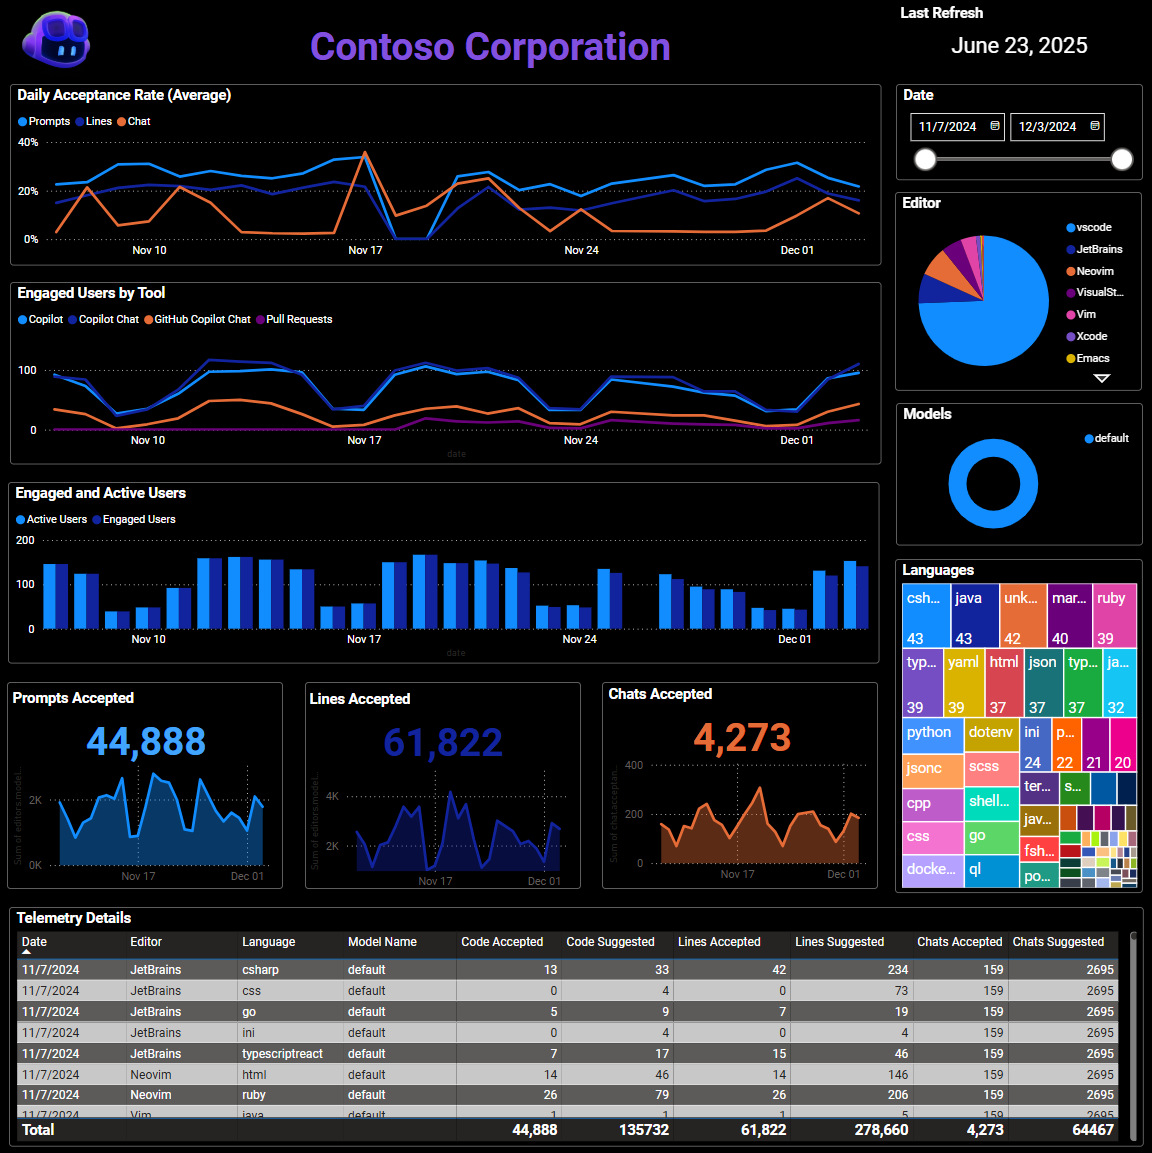

The dashboard page shown, as its layout file describes it:
{"tool":"powerbi","page":{"name":"Sample Dashboard","canvas":[1280,1280],"ordinal":0},"visuals":[{"type":"slicer","title":"Date","fields":{"Values":["GH Copilot - summary.date"]},"box":[992.3,95.6,272.2,105.6],"z":0},{"type":"lineChart","title":"Daily Acceptance Rate (Average)","fields":{"Y":["Avg(GH Copilot - ide code completions editors.code.acceptance.rate)","Avg(GH Copilot - ide code completions editors.line.acceptance.rate)","Avg(GH Copilot - ide chat.chat.acceptance.rate)"],"Category":["GH Copilot - summary.date"]},"box":[16.5,96.3,960,200],"z":1000},{"type":"lineChart","title":"Engaged Users by Tool","fields":{"Category":["GH Copilot - summary.date"],"Y":["Sum(GH Copilot - summary.copilot_ide_code_completions.total_engaged_users)","Sum(GH Copilot - summary.copilot_ide_chat.total_engaged_users)","Sum(GH Copilot - summary.copilot_dotcom_chat.total_engaged_users)","Sum(GH Copilot - summary.copilot_dotcom_pull_requests.total_engaged_users)"]},"box":[16.3,313.4,959.9,200.7],"z":2000},{"type":"pieChart","title":"Editor","fields":{"Category":["GH Copilot - ide code completions editors.editors.name"],"Y":["CountNonNull(GH Copilot - ide code completions editors.editors.name)"]},"box":[991.5,214.7,271.6,218.7],"z":3000},{"type":"treemap","title":"Languages","fields":{"Group":["GH Copilot - ide code completions editors.editors.models.languages.name"],"Values":["CountNonNull(GH Copilot - ide code completions editors.editors.models.languages.name)"]},"box":[991.5,619,272.6,368.4],"z":4000},{"type":"card","title":"Last Refresh","fields":{"Values":["Min(Last Refresh.Last refresh)"]},"box":[992,8,272,72],"z":5000},{"type":"textbox","box":[116.5,23.3,857.9,64.6],"z":6000},{"type":"image","box":[14.8,8.5,87.9,87.9],"z":7000},{"type":"donutChart","title":"Models","fields":{"Category":["GH Copilot - ide chat.editors.models.name"],"Y":["CountNonNull(GH Copilot - ide chat.editors.models.name)"]},"box":[992.4,447.3,271.6,156.8],"z":8000},{"type":"clusteredColumnChart","title":"Engaged and Active Users","fields":{"Category":["GH Copilot - summary.date"],"Y":["Sum(GH Copilot - summary.total_active_users)","Sum(GH Copilot - summary.total_engaged_users)"]},"box":[14.1,534.7,959.9,199.6],"z":9000},{"type":"areaChart","title":"Lines Accepted","fields":{"Y":["Sum(GH Copilot - ide code completions editors.editors.models.languages.total_code_acceptances)"],"Category":["GH Copilot - ide code completions editors.date"]},"box":[13.8,834,304.5,150.5],"z":10000},{"type":"card","title":"Prompts Accepted","fields":{"Values":["Sum(GH Copilot - ide code completions editors.editors.models.languages.total_code_acceptances)"]},"box":[13.8,762.8,304.5,90.8],"z":11000},{"type":"shape","box":[13.3,754.4,304.4,227.8],"z":12000},{"type":"shape","box":[341.3,754.9,304.5,227.5],"z":13000},{"type":"shape","box":[668.7,754.9,304.5,227.5],"z":14000},{"type":"card","title":"Lines Accepted","fields":{"Values":["Sum(GH Copilot - ide code completions editors.editors.models.languages.total_code_lines_accepted)"]},"box":[341.3,762.9,304.5,90.8],"z":15000},{"type":"areaChart","title":"Lines Accepted","fields":{"Y":["Sum(GH Copilot - ide code completions editors.editors.models.languages.total_code_lines_accepted)"],"Category":["GH Copilot - ide code completions editors.date"]},"box":[341.3,839.8,304.5,150.5],"z":16000},{"type":"card","title":"Chats Accepted","fields":{"Values":["Sum(GH Copilot - ide chat.chat.acceptance.total)"]},"box":[671,758.3,304.5,90.8],"z":17000},{"type":"areaChart","title":"Lines Accepted","fields":{"Y":["Sum(GH Copilot - ide chat.chat.acceptance.total)"],"Category":["GH Copilot - ide code completions editors.date"]},"box":[670.7,832.1,304.5,150.5],"z":18000},{"type":"tableEx","title":"Telemetry Details","fields":{"Values":["GH Copilot - summary.date","GH Copilot - ide code completions editors.editors.name","GH Copilot - ide code completions editors.editors.models.languages.name","GH Copilot - ide code completions editors.editors.models.name","Sum(GH Copilot - ide code completions editors.editors.models.languages.total_code_acceptances)","Sum(GH Copilot - ide code completions editors.editors.models.languages.total_code_suggestion)","Sum(GH Copilot - ide code completions editors.editors.models.languages.total_code_lines_accepted)","Sum(GH Copilot - ide code completions editors.editors.models.languages.total_code_lines_suggested)","Sum(GH Copilot - ide chat.chat.acceptance.total)","Sum(GH Copilot - ide chat.editors.models.total_chats)"]},"box":[14.9,1001.9,1250.1,264.3],"z":19001}]}

Visuals, with their boxes in screenshot pixels (x1, y1, x2, y2), scaled from the page's 1280x1280 canvas onto the 1152x1153 screenshot:
"Date" slicer: select_region(893, 86, 1138, 181)
"Daily Acceptance Rate (Average)" lineChart: select_region(15, 87, 879, 267)
"Engaged Users by Tool" lineChart: select_region(15, 282, 879, 463)
"Editor" pieChart: select_region(892, 193, 1137, 390)
"Languages" treemap: select_region(892, 558, 1138, 889)
"Last Refresh" card: select_region(893, 7, 1138, 72)
textbox: select_region(105, 21, 877, 79)
image: select_region(13, 8, 92, 87)
"Models" donutChart: select_region(893, 403, 1138, 544)
"Engaged and Active Users" clusteredColumnChart: select_region(13, 482, 877, 661)
"Lines Accepted" areaChart: select_region(12, 751, 286, 887)
"Prompts Accepted" card: select_region(12, 687, 286, 769)
shape: select_region(12, 680, 286, 885)
shape: select_region(307, 680, 581, 885)
shape: select_region(602, 680, 876, 885)
"Lines Accepted" card: select_region(307, 687, 581, 769)
"Lines Accepted" areaChart: select_region(307, 756, 581, 892)
"Chats Accepted" card: select_region(604, 683, 878, 765)
"Lines Accepted" areaChart: select_region(604, 750, 878, 885)
"Telemetry Details" tableEx: select_region(13, 902, 1138, 1141)
